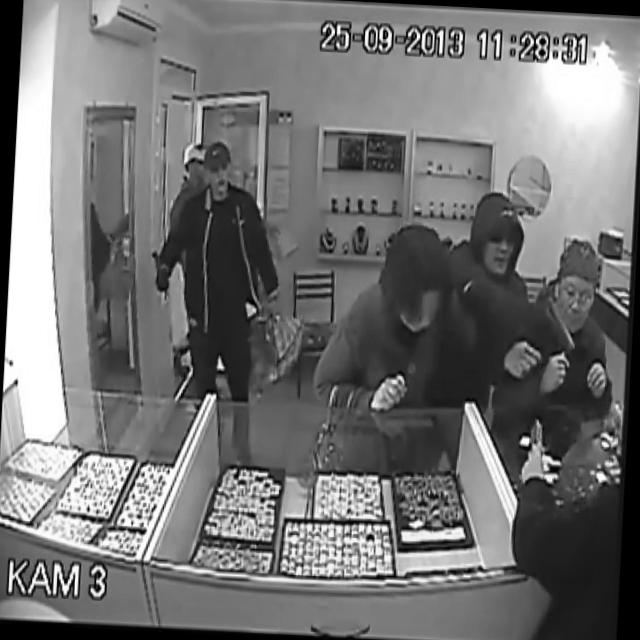gun: (502, 284, 584, 366)
person: (161, 140, 280, 394), (521, 221, 636, 453), (344, 220, 452, 424), (171, 131, 209, 199)
person with a gun: (425, 173, 545, 428)
